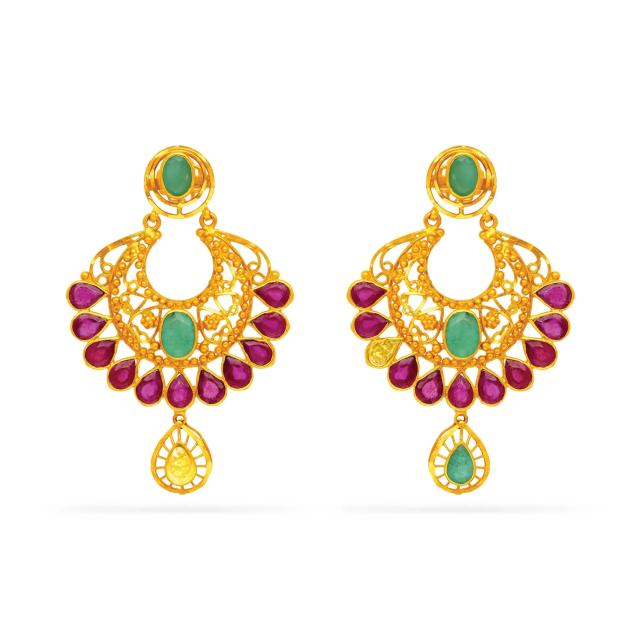missing gem: (166, 446, 194, 483), (368, 340, 401, 367)
